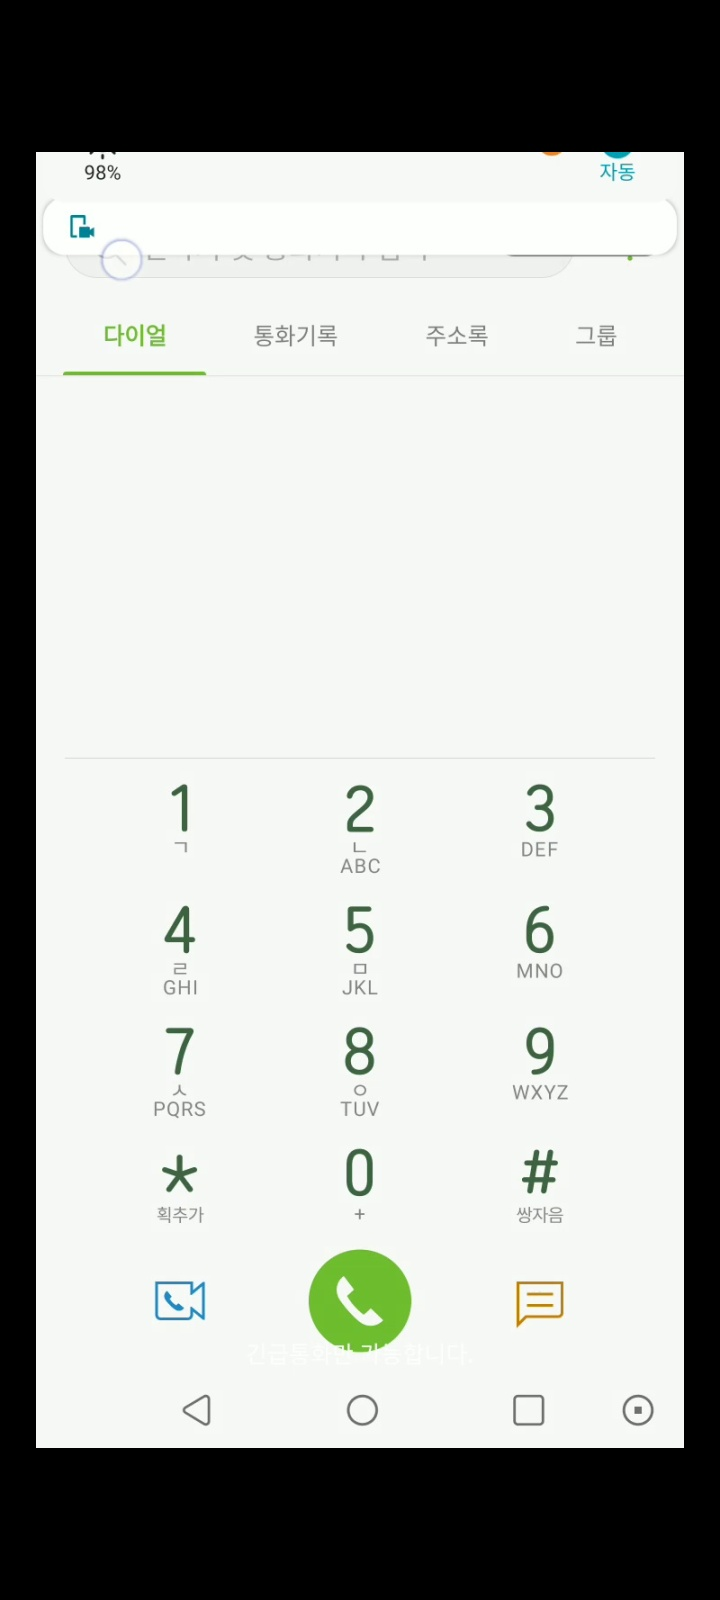Cursor: (99, 237, 144, 283)
